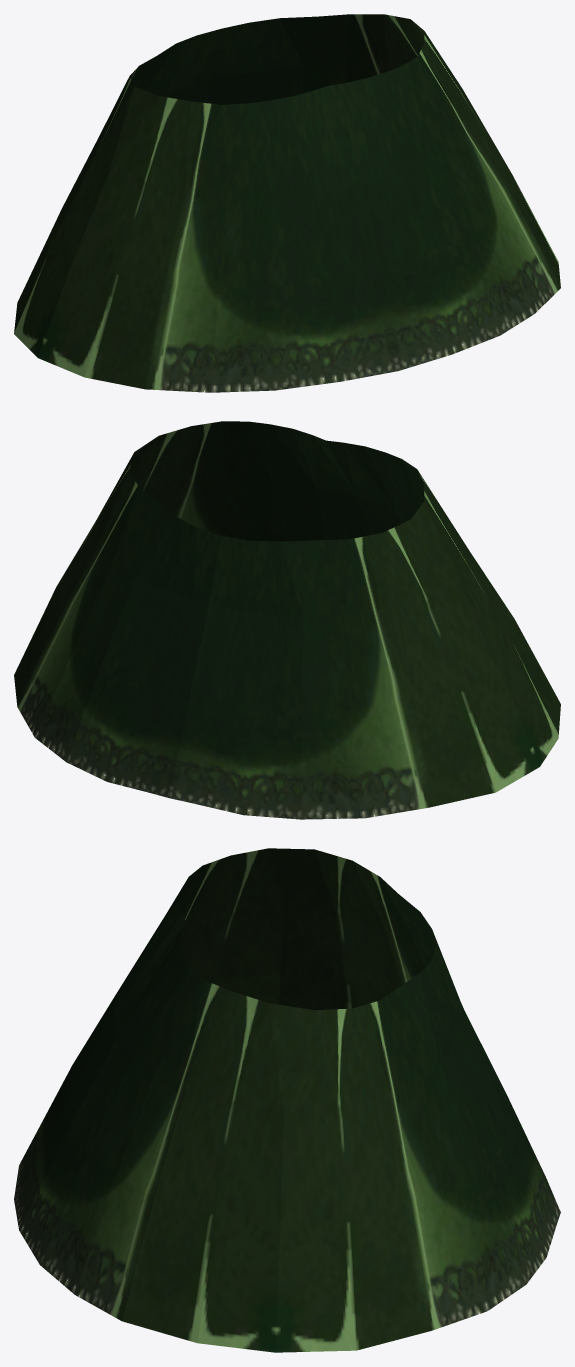
File: skinSource0JGE.obj
3 views of the same model, one above another, from view 1: azimuth 30°, elevation 25°; view 2: azimuth 150°, elevation 25°; view 3: azimuth 270°, elevation 25° (orthographic). The views are drawn at different scales.
Visible parts, largest first — view 1: skinSource0JGE; view 2: skinSource0JGE; view 3: skinSource0JGE.
Part boxes in pixels (x1,y1,x2,y2): skinSource0JGE: [14, 14, 560, 392]; skinSource0JGE: [14, 421, 560, 819]; skinSource0JGE: [14, 848, 560, 1352].
Bounding box in the file's own units: 43.79 × 20.71 × 34.63.
